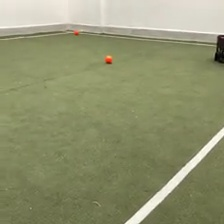ball: (104, 53, 113, 64), (72, 28, 80, 36)
robot: (212, 33, 224, 64)
